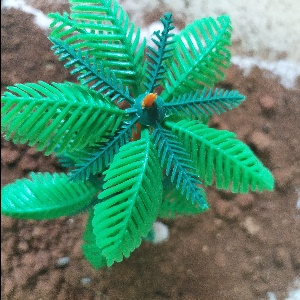plant: (4, 7, 272, 270)
